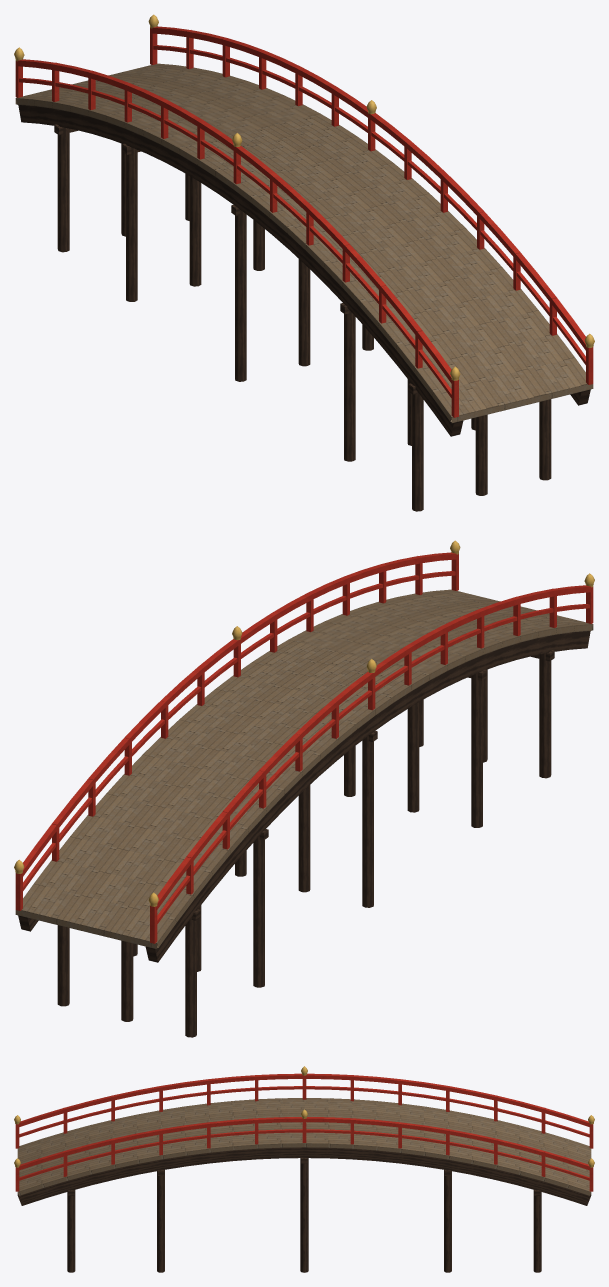
Rendered from HO_Harbour_ArchBridge.fbx.
The picture shows the model from 3 angles, top to bottom: view 1: azimuth 30°, elevation 25°; view 2: azimuth 150°, elevation 25°; view 3: azimuth 270°, elevation 25°; orthographic projection. The views are drawn at different scales.
Parts seen in each view (by area): view 1: HO_Harbour_ArchBridge__Wood_Planks, HO_Harbour_ArchBridge__Timber_Dark, HO_Harbour_ArchBridge__Red_Lacquer, HO_Harbour_ArchBridge__Gold_Leaf; view 2: HO_Harbour_ArchBridge__Wood_Planks, HO_Harbour_ArchBridge__Timber_Dark, HO_Harbour_ArchBridge__Red_Lacquer, HO_Harbour_ArchBridge__Gold_Leaf; view 3: HO_Harbour_ArchBridge__Wood_Planks, HO_Harbour_ArchBridge__Red_Lacquer, HO_Harbour_ArchBridge__Timber_Dark, HO_Harbour_ArchBridge__Gold_Leaf.
Part boxes in pixels (x1,y1,x2,y2): HO_Harbour_ArchBridge__Wood_Planks: (15,63,593,423); HO_Harbour_ArchBridge__Timber_Dark: (18,105,590,511); HO_Harbour_ArchBridge__Red_Lacquer: (15,26,593,417); HO_Harbour_ArchBridge__Gold_Leaf: (14,14,594,380); HO_Harbour_ArchBridge__Wood_Planks: (15,589,593,949); HO_Harbour_ArchBridge__Timber_Dark: (18,631,590,1037); HO_Harbour_ArchBridge__Red_Lacquer: (15,552,593,943); HO_Harbour_ArchBridge__Gold_Leaf: (14,540,594,906); HO_Harbour_ArchBridge__Wood_Planks: (17,1098,591,1195); HO_Harbour_ArchBridge__Red_Lacquer: (15,1073,593,1191); HO_Harbour_ArchBridge__Timber_Dark: (17,1147,591,1272); HO_Harbour_ArchBridge__Gold_Leaf: (14,1066,594,1167).
Bounding box in the file's own units: 12.2 × 20.05 × 64.8.
